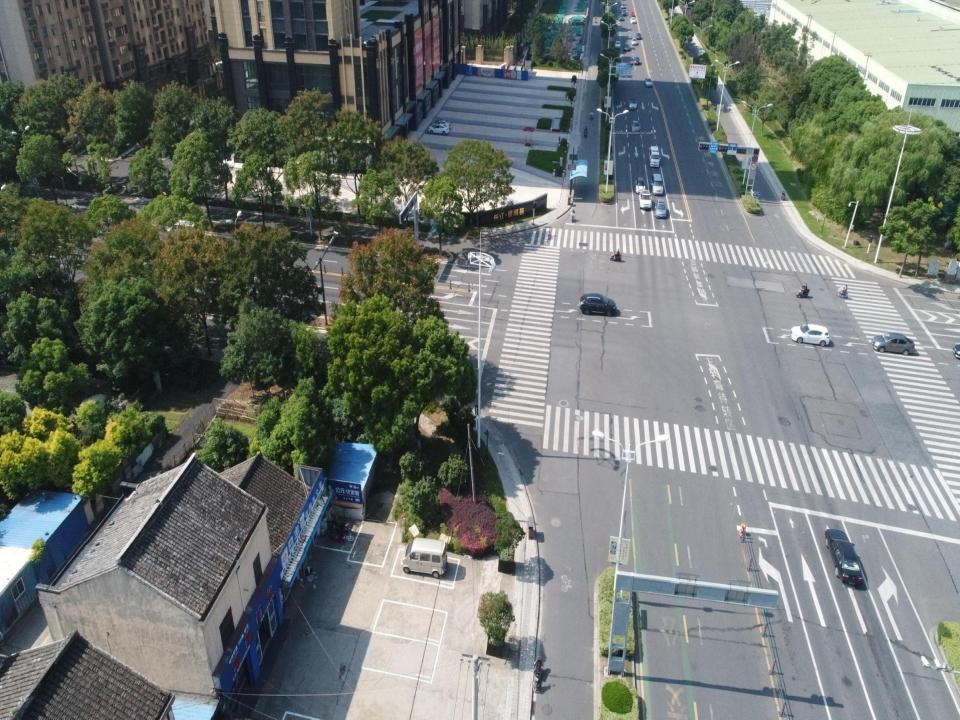car: (825, 526, 865, 588), (870, 331, 915, 356), (579, 292, 618, 316), (790, 322, 830, 344), (427, 122, 449, 136), (639, 189, 652, 210), (655, 198, 668, 218), (636, 176, 646, 194), (631, 119, 641, 133), (432, 119, 451, 126), (629, 97, 638, 109), (645, 76, 653, 88), (634, 56, 640, 66), (631, 38, 638, 46), (636, 31, 642, 40), (614, 40, 620, 48), (624, 43, 630, 51), (630, 16, 636, 23), (618, 14, 624, 21), (629, 10, 634, 16), (621, 3, 626, 9), (622, 9, 626, 16)
van: (401, 538, 446, 579), (651, 173, 664, 196), (649, 145, 660, 167)
